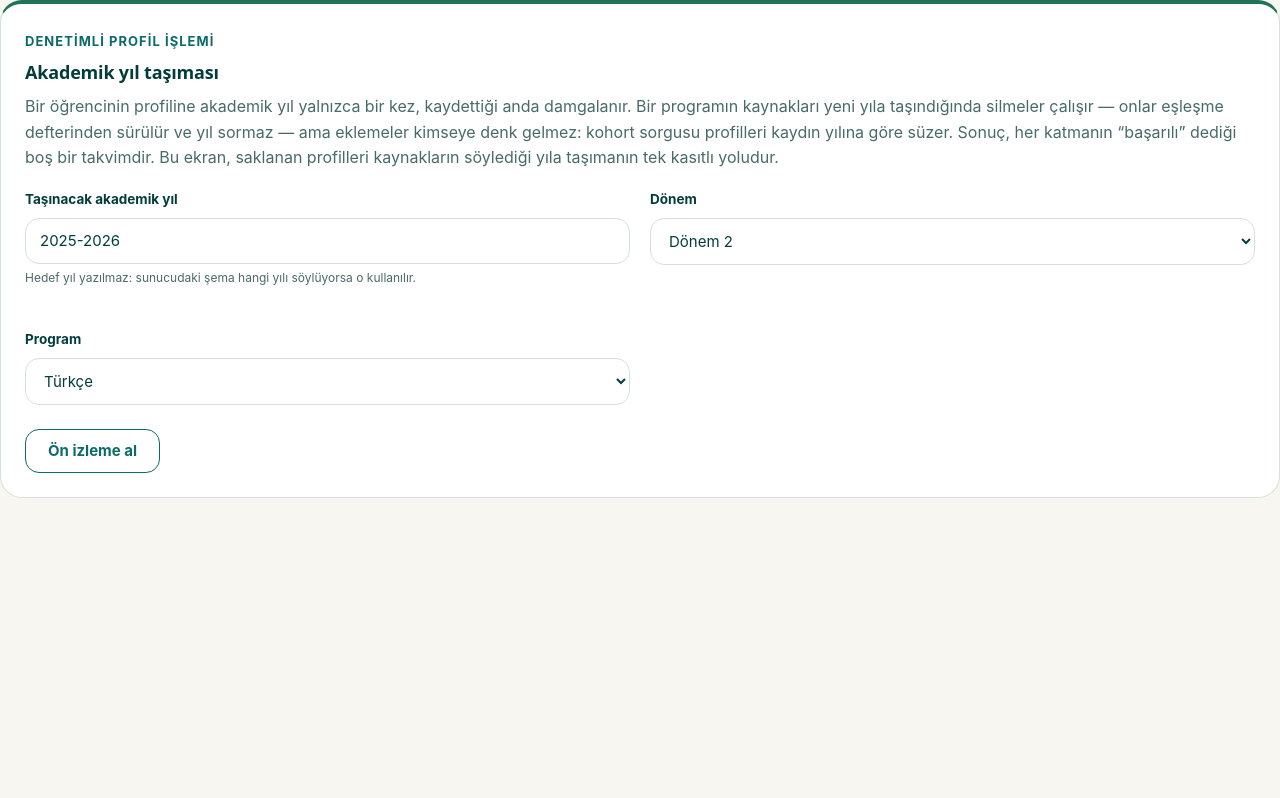
Test: ProfileRolloverControl › names the profiles it will not move and why
This screenshot has width=1280, height=798.
Click the button "Ön izleme al" at (93, 451), box [25, 429, 160, 473]
(page scrolled)
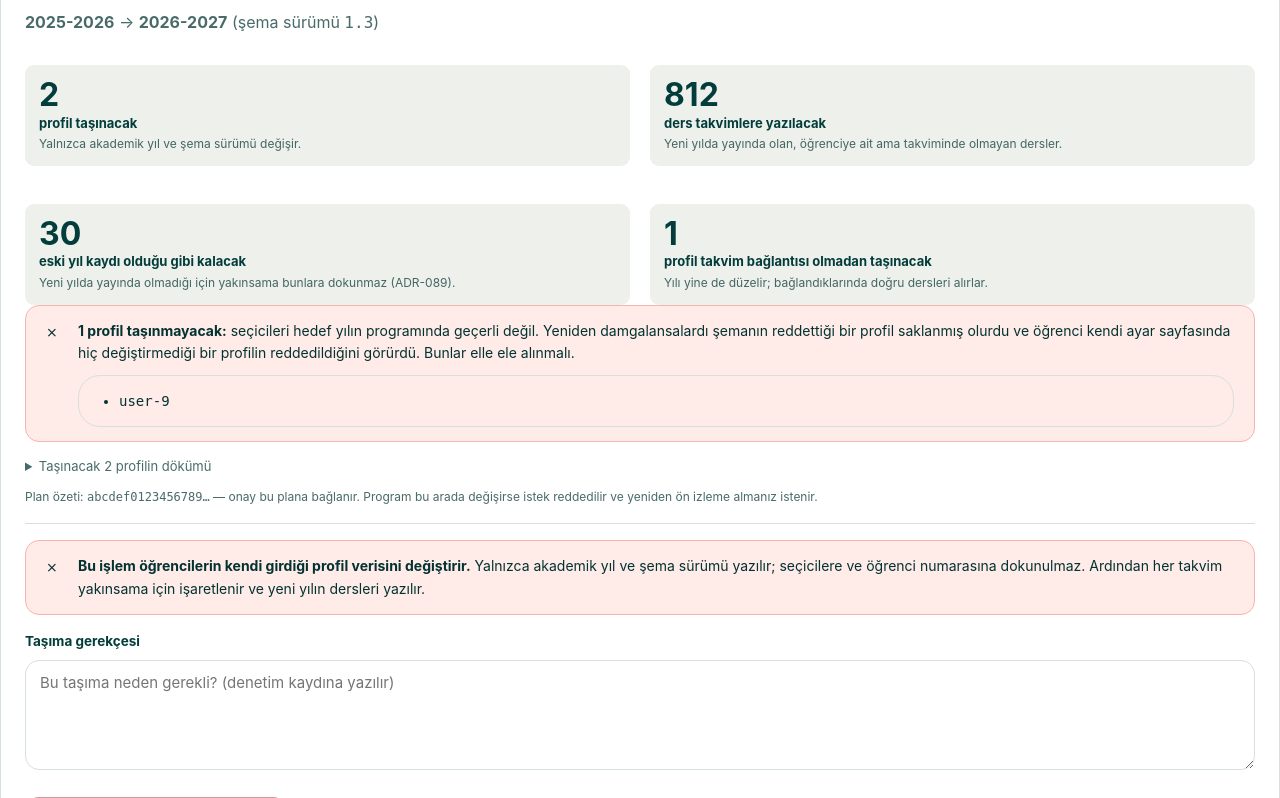
Result: the text "1 profil taşınmayacak:" is shown at [78, 322, 227, 339]
Result: the list item "user-9" is shown at [119, 393, 170, 409]
